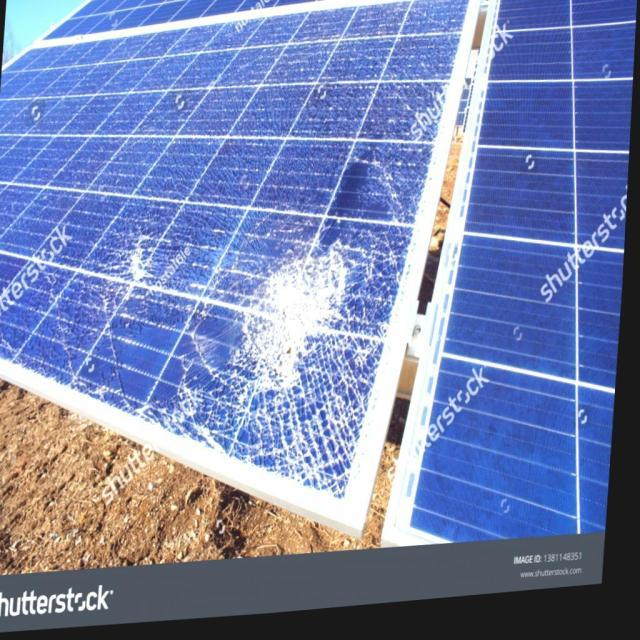cracked: (1, 1, 450, 524)
